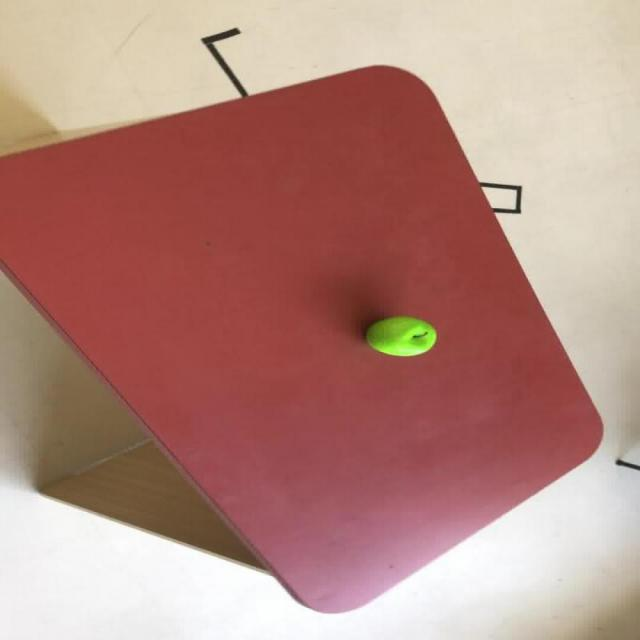Apple: (364, 316, 436, 356)
